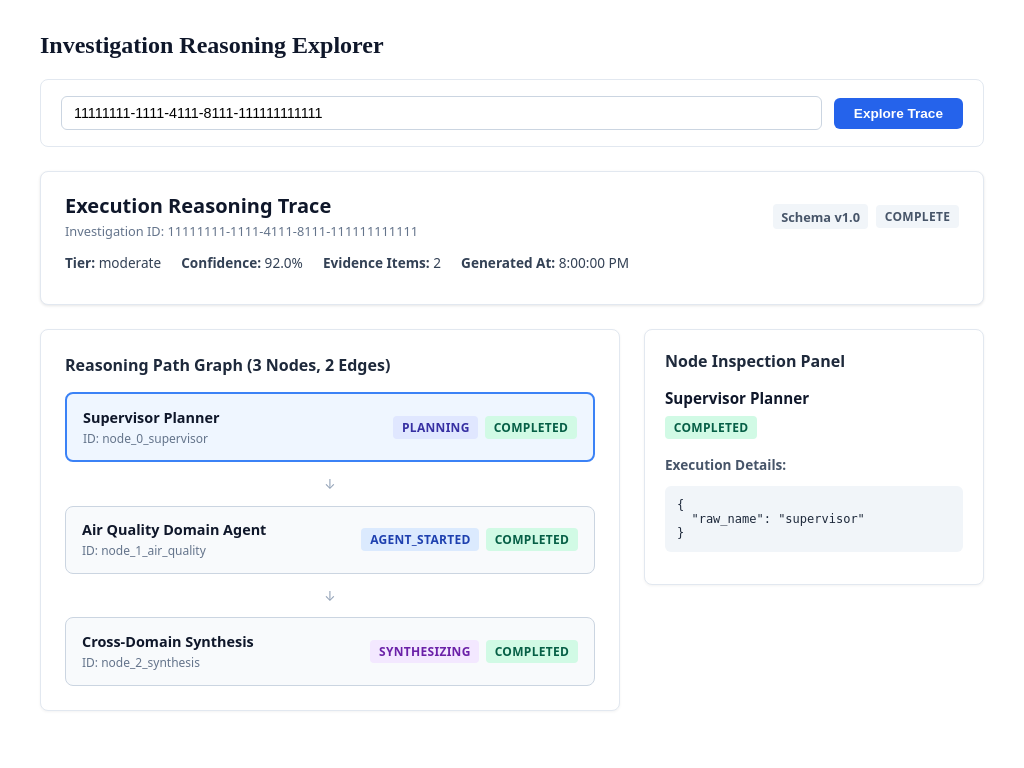
Test case: Investigations Explainability Trace page › allows clicking nodes to display details in inspection panel
Click the button with aria-label "node Air Quality Domain Agent" at coordinates (174, 530), box top-left (65, 506), bottom-right (595, 574)
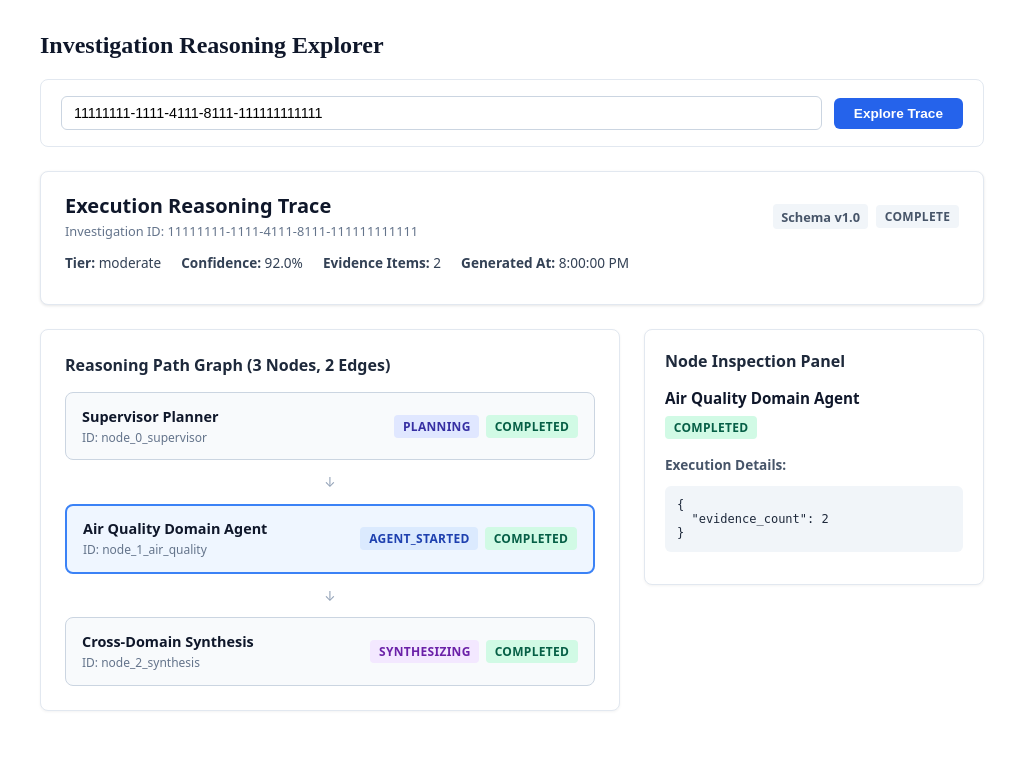
expect the text "{ \"evidence_count\": 2 }" is shown: met, box top-left (665, 486), bottom-right (963, 552)
